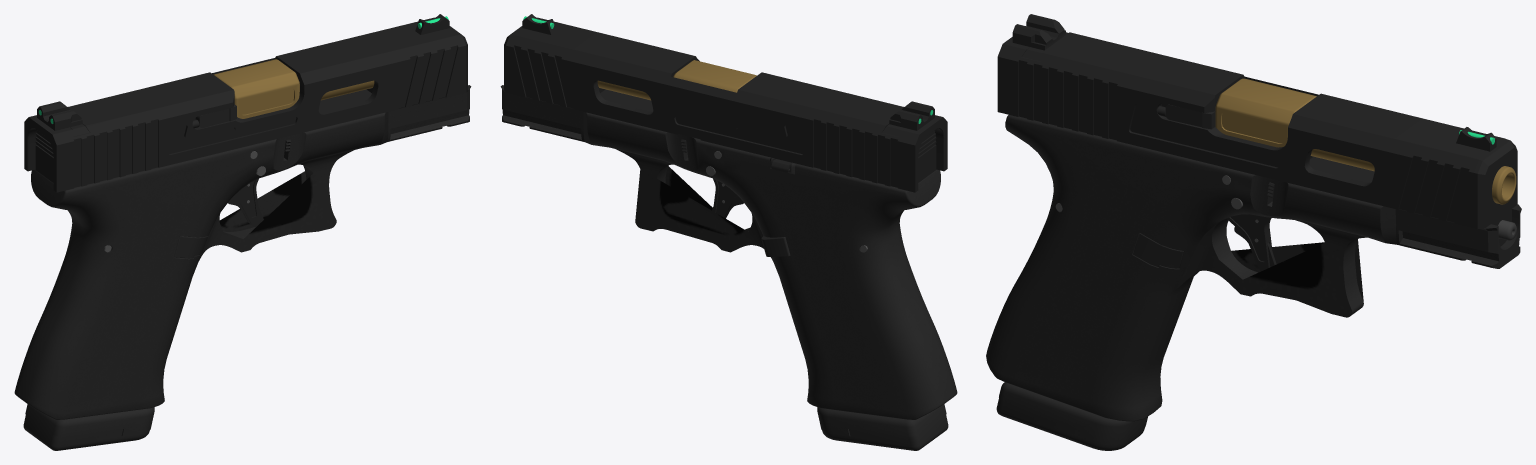
Rendered from Pistol.fbx.
The picture shows the model from 3 angles, left to right: view 1: azimuth 30°, elevation 25°; view 2: azimuth 150°, elevation 25°; view 3: azimuth 330°, elevation 25°; orthographic projection. The views are drawn at different scales.
Parts seen in each view (by area): view 1: Body, Top, Cube.010, Magazine, Slice.003, Cube.011, Cube.015, Trigger, Box.002, Cube.006; view 2: Body, Top, Magazine, Cube.010, Slice.003, Cube.011, Cube.015, Trigger, Box.002; view 3: Body, Top, Cube.010, Magazine, Slice.003, Cube.011, Trigger, Box.002, Cube.006, Cube.013.
Boxes of the visible parts, x1,y1,x2,y2 form: Body: [14, 85, 471, 419]; Top: [24, 17, 467, 192]; Cube.010: [213, 59, 374, 118]; Magazine: [25, 404, 154, 436]; Slice.003: [23, 415, 149, 450]; Cube.011: [37, 101, 89, 136]; Cube.015: [35, 130, 53, 182]; Trigger: [231, 178, 260, 227]; Box.002: [174, 236, 208, 258]; Cube.006: [195, 104, 236, 127]; Body: [500, 85, 957, 419]; Top: [504, 17, 947, 192]; Magazine: [817, 404, 946, 436]; Cube.010: [597, 60, 756, 100]; Slice.003: [822, 415, 948, 450]; Cube.011: [882, 101, 934, 136]; Cube.015: [918, 130, 936, 182]; Trigger: [713, 178, 740, 218]; Box.002: [761, 236, 790, 256]; Body: [986, 115, 1521, 421]; Top: [997, 32, 1517, 246]; Cube.010: [1215, 78, 1516, 204]; Magazine: [999, 382, 1147, 444]; Slice.003: [996, 399, 1144, 450]; Cube.011: [1012, 14, 1068, 61]; Trigger: [1226, 214, 1272, 271]; Box.002: [1133, 233, 1183, 268]; Cube.006: [1165, 104, 1215, 129]; Cube.013: [1456, 127, 1496, 151].
Size of the model in its own units: 368 by 270 by 53.87.
